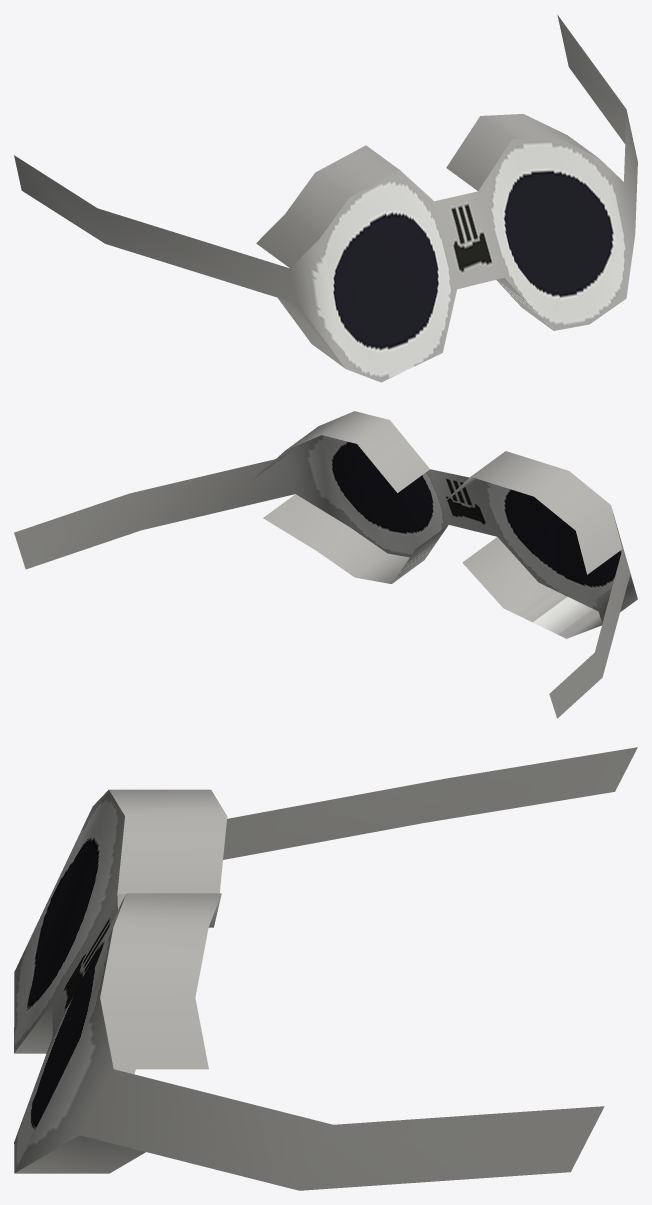
The model's file is glasses.FBX.
The picture shows the model from 3 angles, top to bottom: view 1: azimuth 30°, elevation 25°; view 2: azimuth 150°, elevation 25°; view 3: azimuth 270°, elevation 25°; orthographic projection. The views are drawn at different scales.
Parts seen in each view (by area): view 1: glasses; view 2: glasses; view 3: glasses.
Boxes of the visible parts, box(x1,y1,x2,y2) form: glasses: box(14, 15, 637, 382); glasses: box(14, 411, 637, 718); glasses: box(14, 747, 637, 1190).
Bounding box in the file's own units: 95.5 × 29.92 × 65.02.
